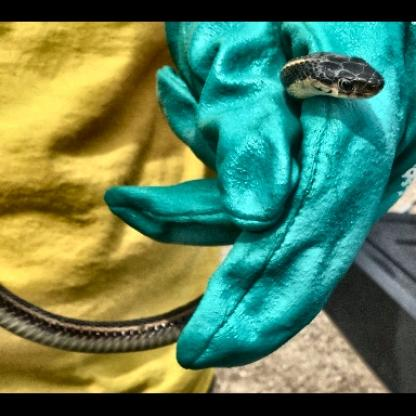Snake: (277, 46, 389, 104)
